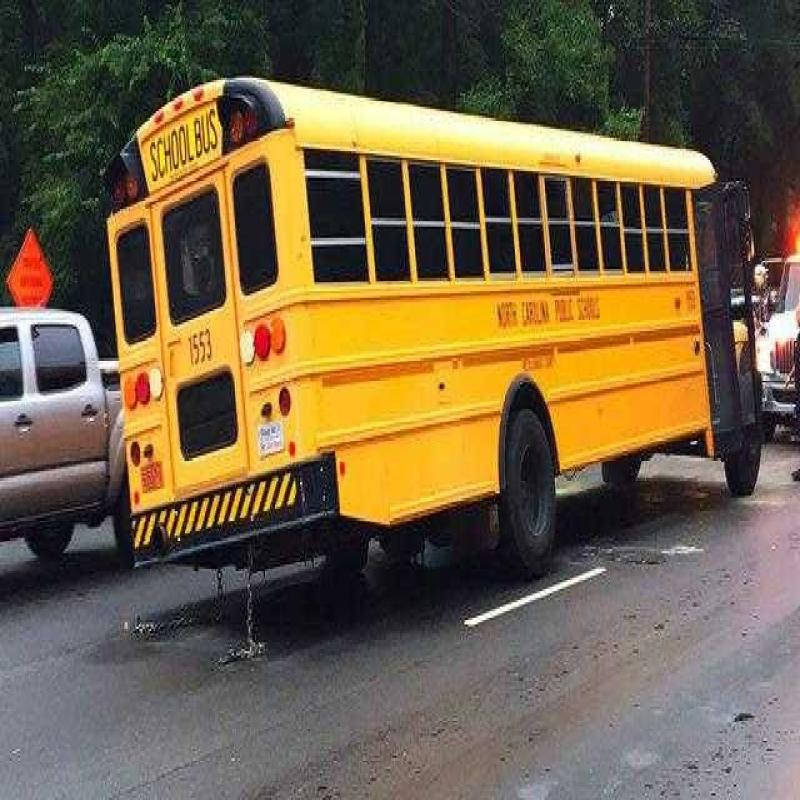bus: (105, 40, 762, 610)
